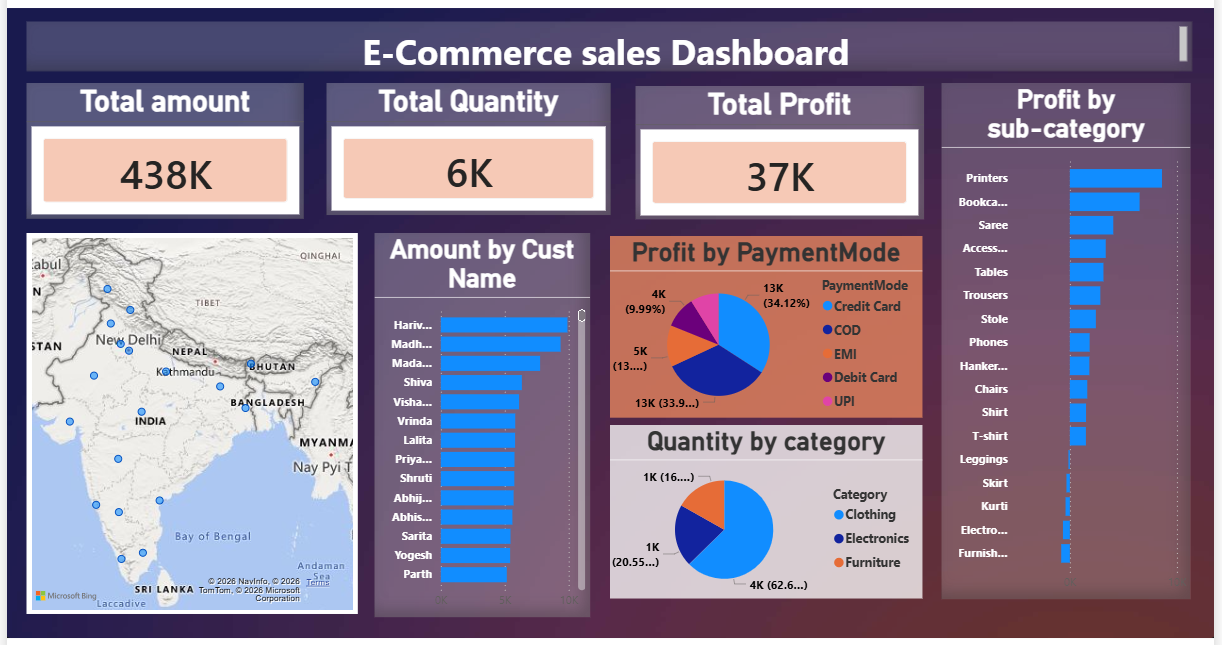

The dashboard page shown, as its layout file describes it:
{"tool":"powerbi","page":{"name":"E-com dsbrd","canvas":[1280,720],"ordinal":3},"visuals":[{"type":"cardVisual","title":"Total amount","fields":{"Data":["Sum(Details.Amount)"]},"box":[20,101.4,294.3,144.3],"z":0},{"type":"cardVisual","title":"Total Quantity","fields":{"Data":["Sum(Details.Quantity)"]},"box":[338.6,101.4,301.4,140],"z":1000},{"type":"cardVisual","title":"Total Profit","fields":{"Data":["Sum(Details.Profit)"]},"box":[665.7,104.3,305.7,141.4],"z":2000},{"type":"map","fields":{"Category":["Order (2).State"]},"box":[20,261.4,351.4,404.3],"z":3000},{"type":"clusteredBarChart","title":" Amount by Cust Name","fields":{"Category":["Order (2).CustomerName"],"Y":["Sum(Details.Amount)"]},"box":[390,261.4,228.6,407.1],"z":4000},{"type":"pieChart","title":" Profit by PaymentMode","fields":{"Category":["Details.PaymentMode"],"Y":["Sum(Details.Profit)"]},"box":[640,264.3,331.4,192.9],"z":5000},{"type":"pieChart","title":" Quantity by category","fields":{"Category":["Details.Category"],"Y":["Sum(Details.Quantity)"]},"box":[640,464.3,331.4,184.3],"z":6000},{"type":"clusteredBarChart","title":"Profit by sub-category","fields":{"Category":["Details.Sub-Category"],"Y":["Sum(Details.Profit)"]},"box":[991.4,101.4,264.3,547.1],"z":7000},{"type":"textbox","box":[20,37.1,1235.7,52.9],"z":8000}]}

Visuals, with their boxes on the page's 1280x720 design canvas (x1, y1, x2, y2). These are canvas units, not pixel positions in the 1222x645 screenshot, which may show the page scaled, cropped or inside an application window:
"Total amount" cardVisual: Rect(20, 101, 314, 246)
"Total Quantity" cardVisual: Rect(339, 101, 640, 241)
"Total Profit" cardVisual: Rect(666, 104, 971, 246)
map - Order (2).State: Rect(20, 261, 371, 666)
" Amount by Cust Name" clusteredBarChart: Rect(390, 261, 619, 668)
" Profit by PaymentMode" pieChart: Rect(640, 264, 971, 457)
" Quantity by category" pieChart: Rect(640, 464, 971, 649)
"Profit by sub-category" clusteredBarChart: Rect(991, 101, 1256, 648)
textbox: Rect(20, 37, 1256, 90)
